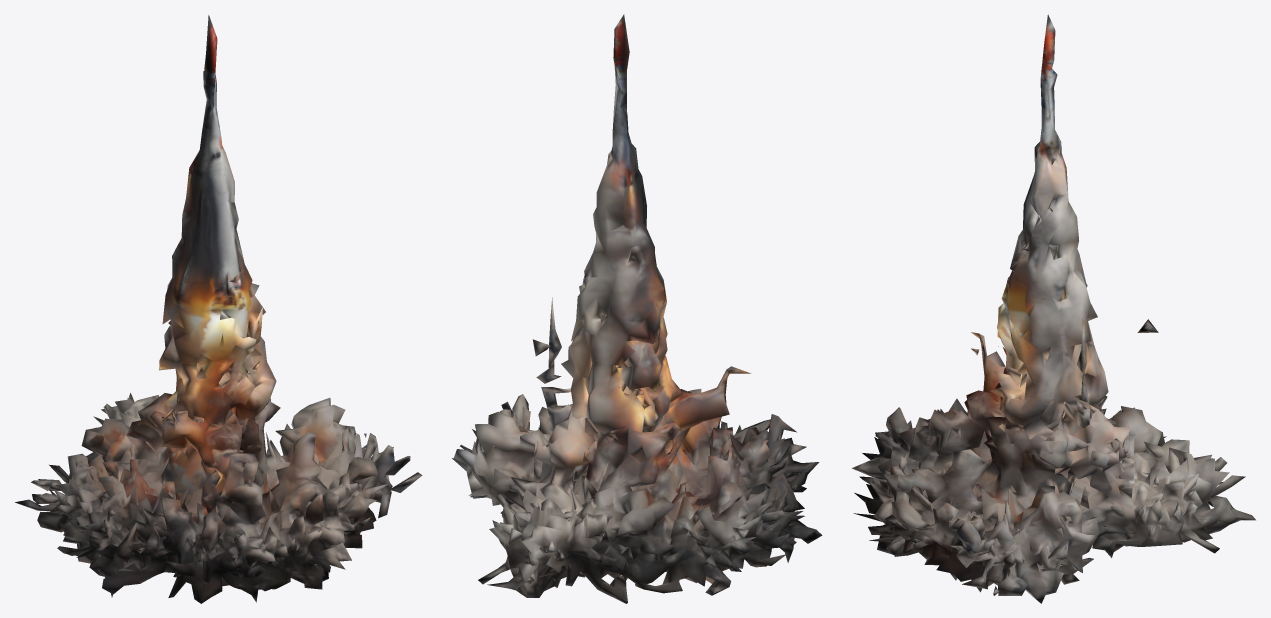
File: estela cohete.glb
3 renders of one model, left to right at view 1: azimuth 30°, elevation 25°; view 2: azimuth 150°, elevation 25°; view 3: azimuth 270°, elevation 25°, orthographic. The views are drawn at different scales.
Bounding box in the file's own units: 1.36 × 2.01 × 1.39.
1 material, 1 textured.
